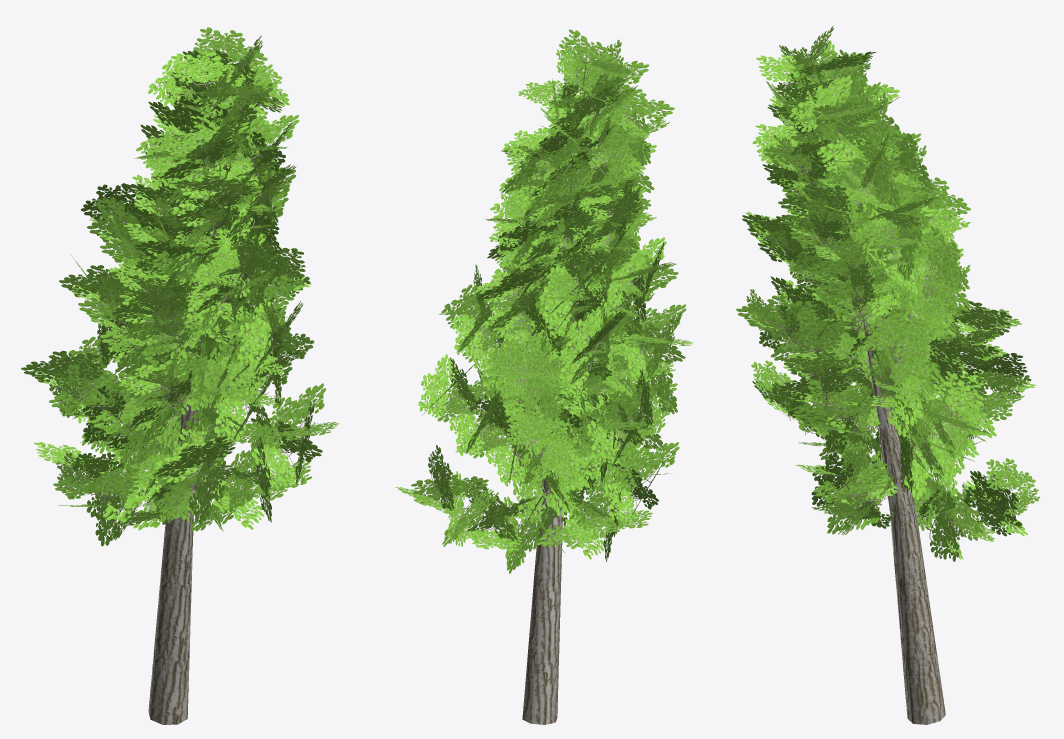
3 views of the same model, side by side, from view 1: azimuth 30°, elevation 25°; view 2: azimuth 150°, elevation 25°; view 3: azimuth 270°, elevation 25° (orthographic). The views are drawn at different scales.
Visible parts, largest first — view 1: tree.001; view 2: tree.001; view 3: tree.001.
Part boxes in pixels (x1=…): tree.001: x1=21, y1=27, x2=338, y2=724; tree.001: x1=395, y1=29, x2=692, y2=724; tree.001: x1=736, y1=26, x2=1039, y2=724.
Bounding box in the file's own units: 3.46 × 8.3 × 3.41.
Materials: 2 (2 with a texture image).
